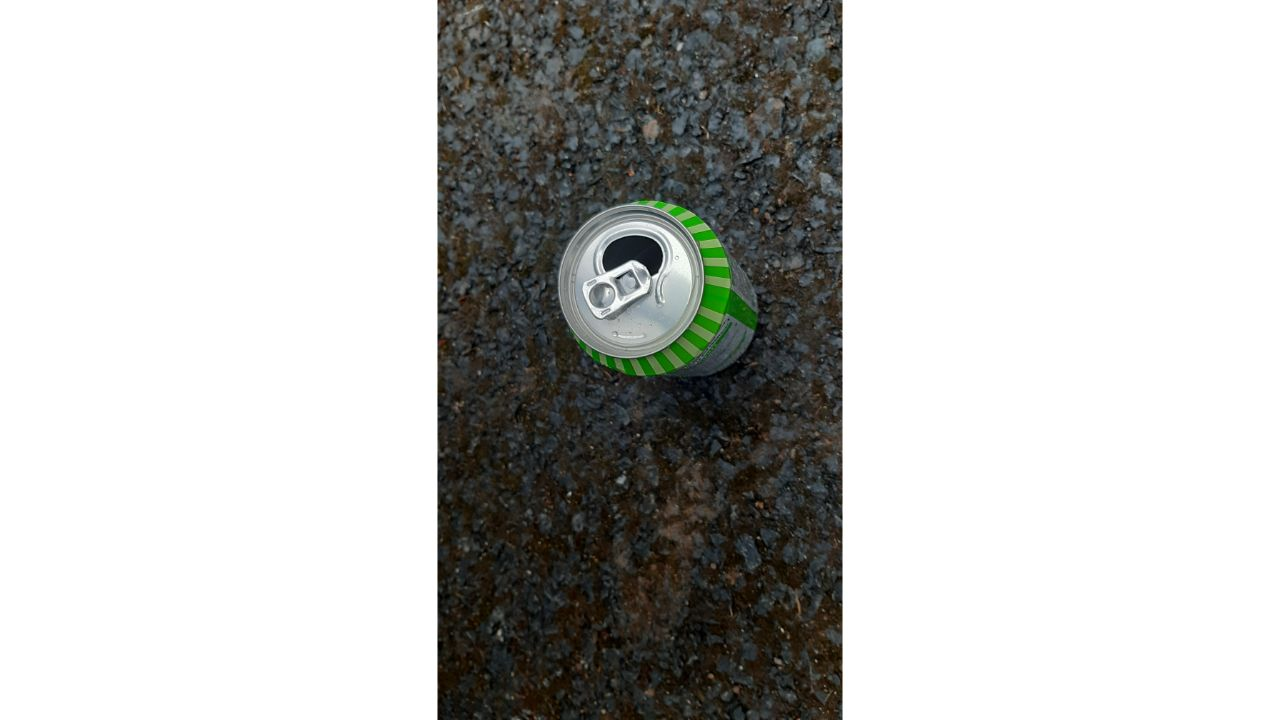Can: (539, 185, 771, 400)
